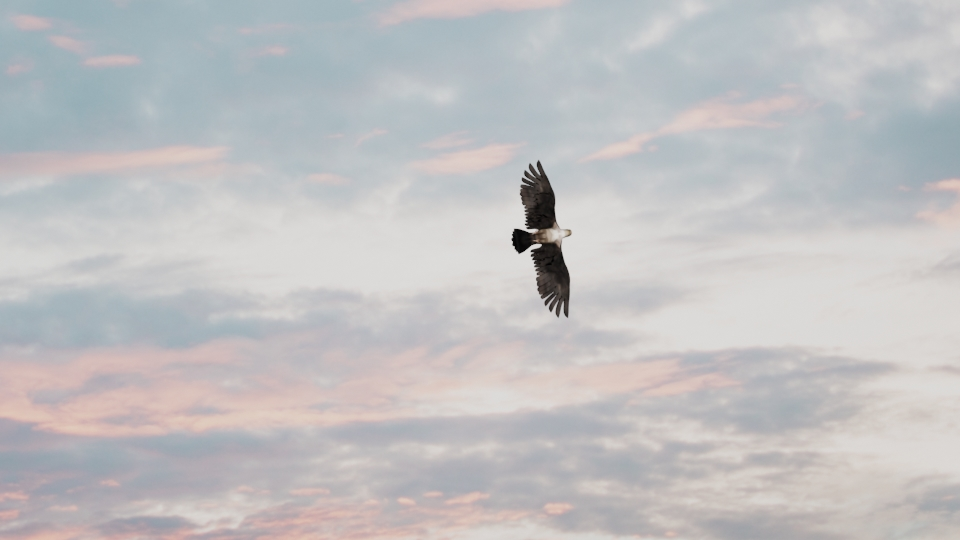bird: (511, 158, 571, 316)
